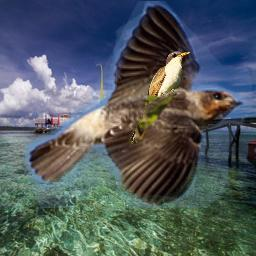Cuckoo: (128, 49, 192, 146)
Swallow: (25, 1, 252, 208)
